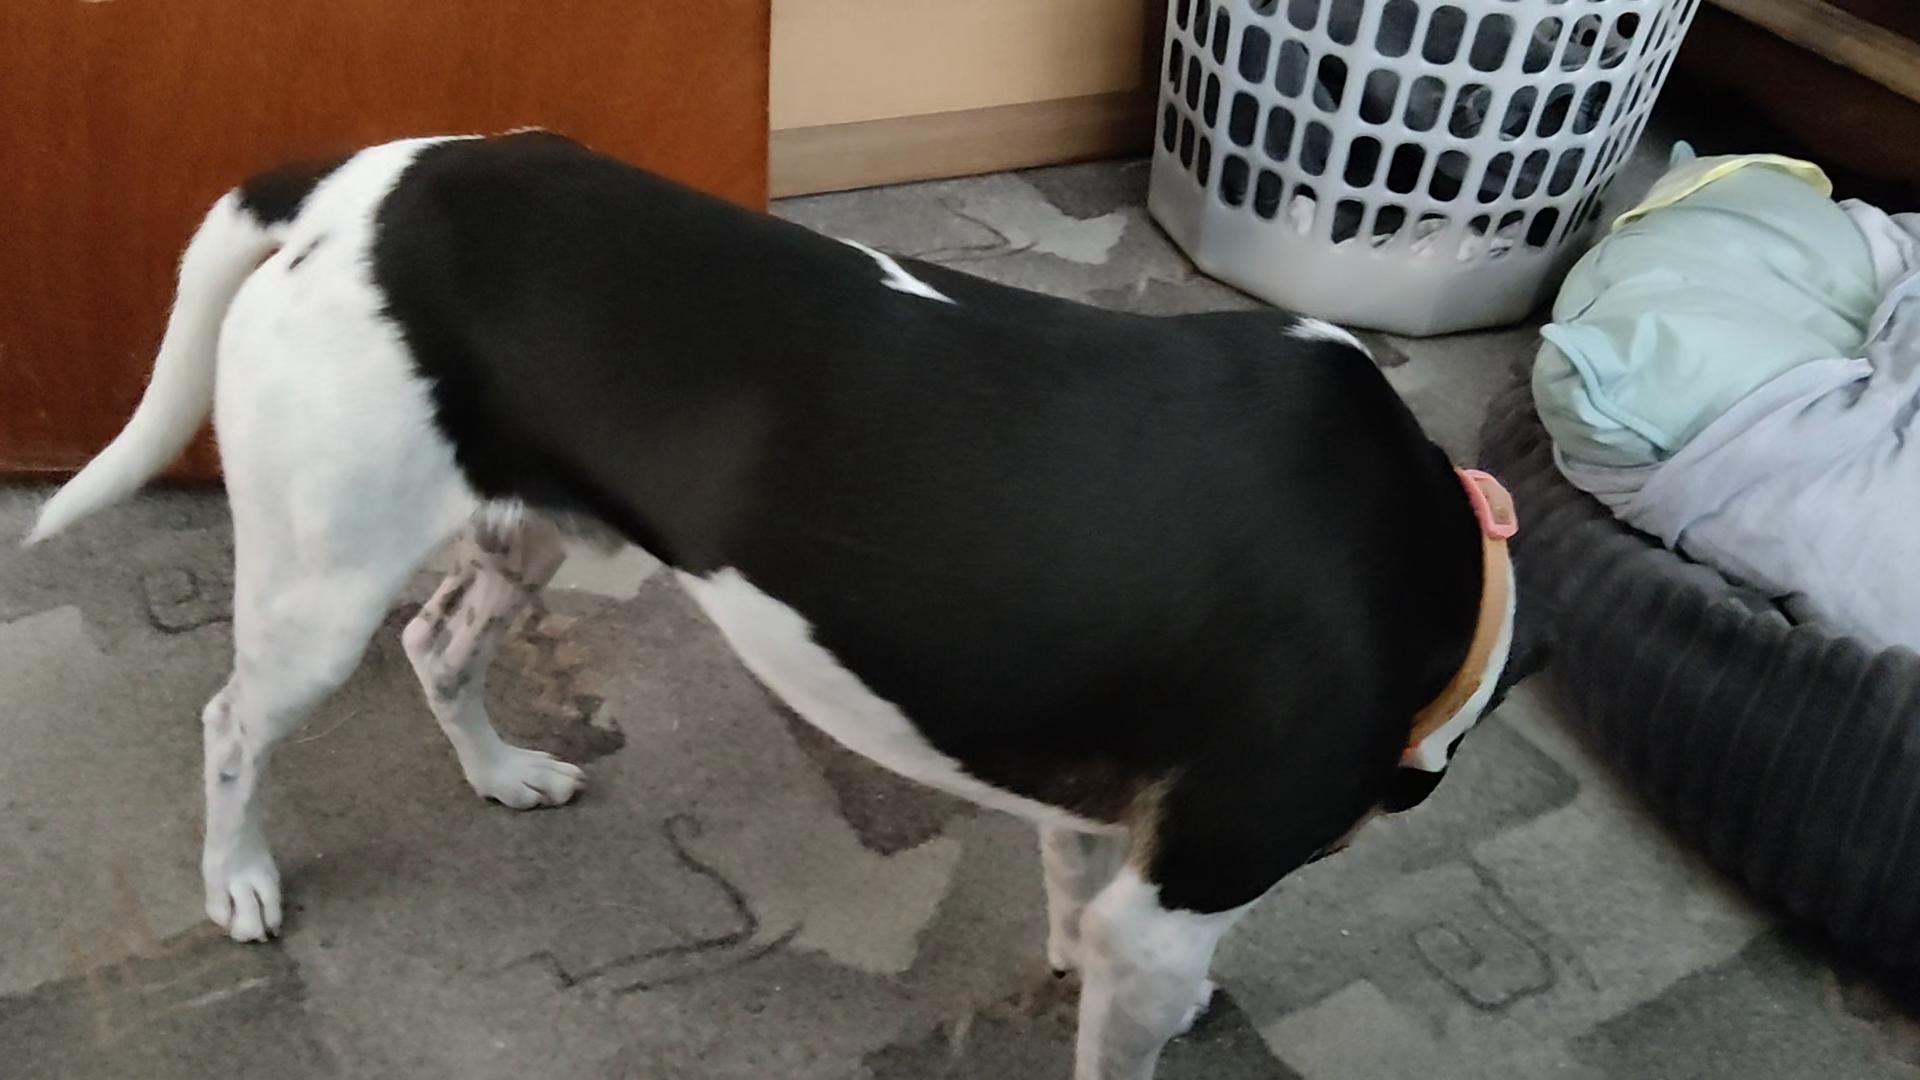Dog: (18, 113, 1559, 1075)
